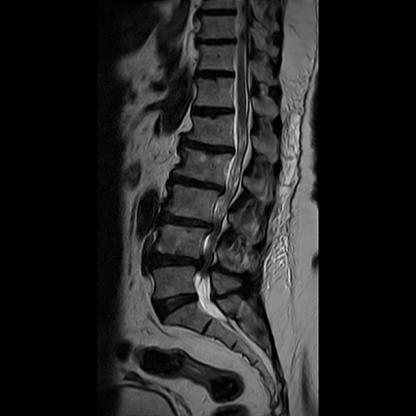Disc Bulgerotation: (139, 236, 210, 282), (154, 205, 220, 232), (150, 291, 204, 323), (165, 172, 229, 196)
